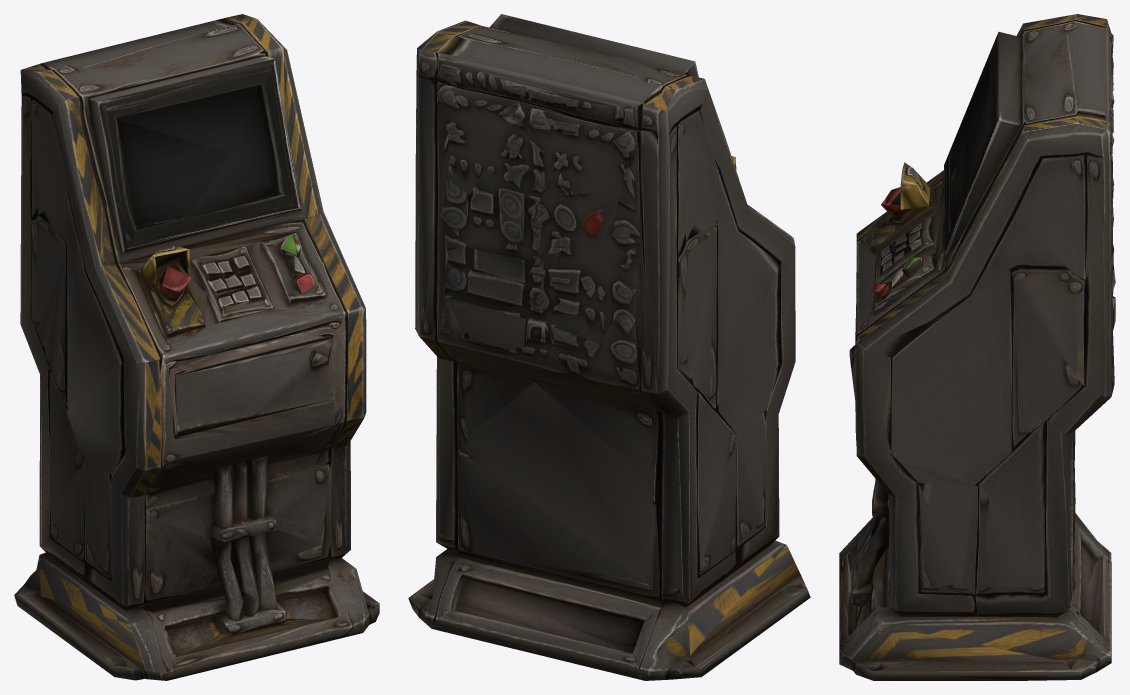
File: alarm_console.glb
The picture shows the model from 3 angles, left to right: view 1: azimuth 30°, elevation 25°; view 2: azimuth 150°, elevation 25°; view 3: azimuth 270°, elevation 25°; orthographic projection. The views are drawn at different scales.
Size of the model in its own units: 0.5244 by 0.9988 by 0.458.
1 material, 1 textured.
